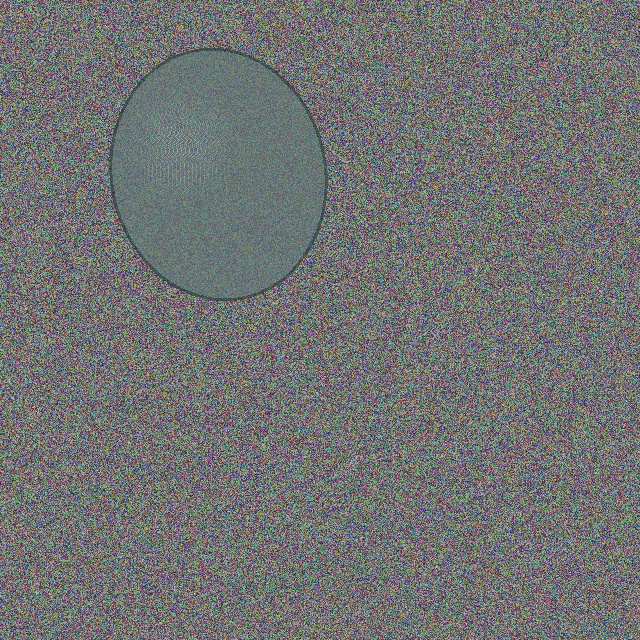lens: (110, 49, 326, 299)
